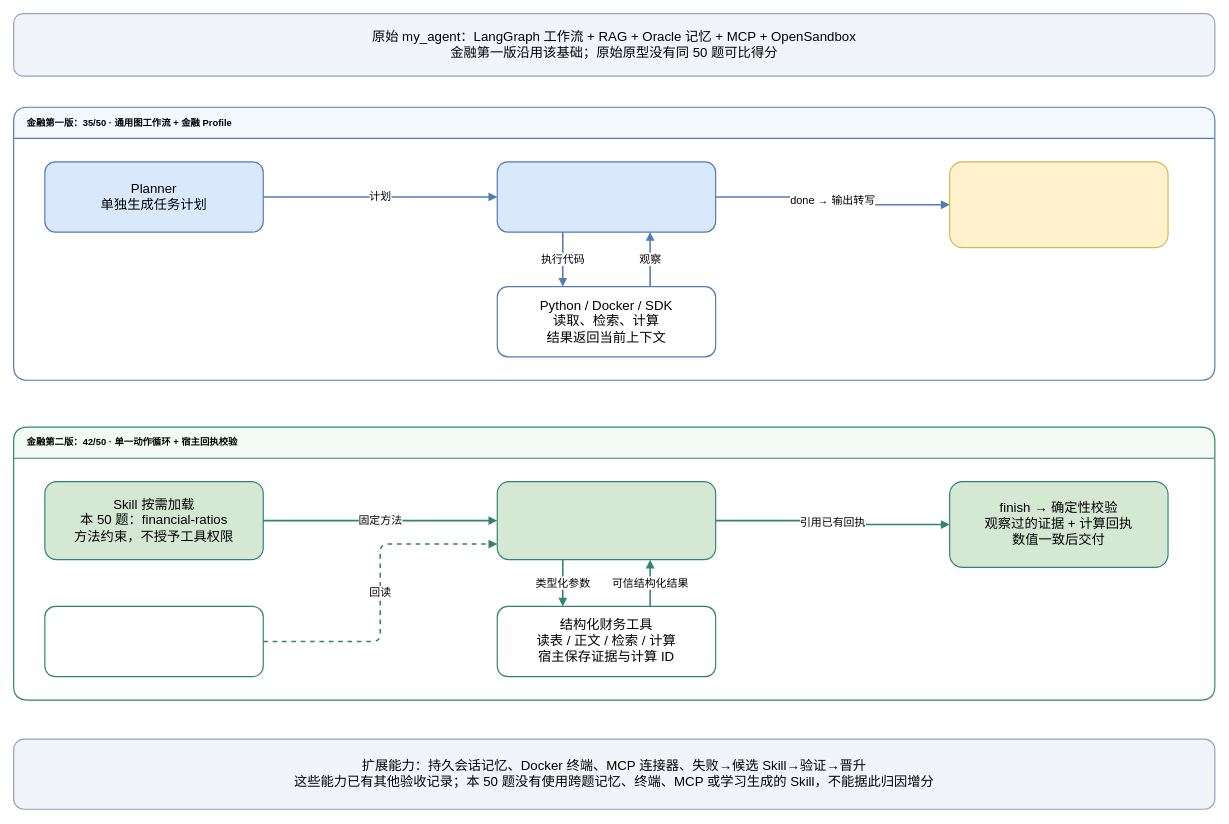
This 1229x824 diagram has some shape labels left out. Each missing label, with the centre of its shape:
"Executor 决定下一步代码 / 完成" belongs at point 606,196.
"Finalizer 再次生成答案 + FinQA DSL 严格解析 / 程序一致性" belongs at point 1058,204.
"单一动作循环 skill / tool / finish 当前文档范围 + 模型决策" belongs at point 606,520.
"有界上下文 + 原始归档 长观察保留完整记录 context_read 按需回读" belongs at point 153,641.
